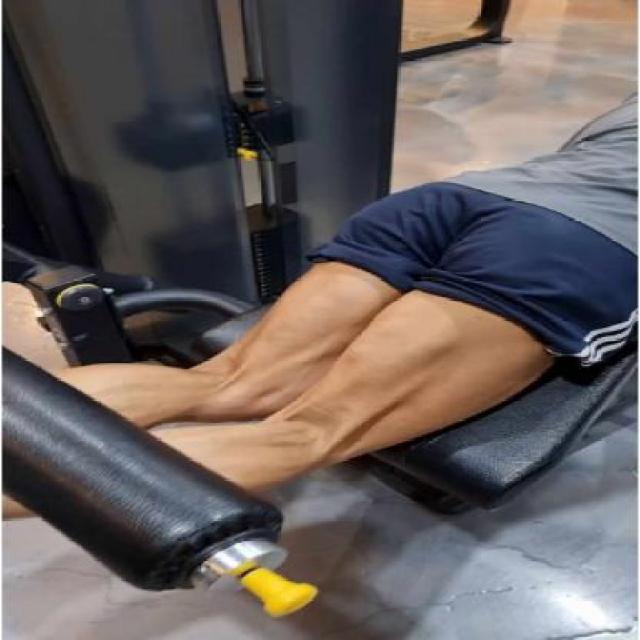reg curl machine: (14, 0, 640, 623)
